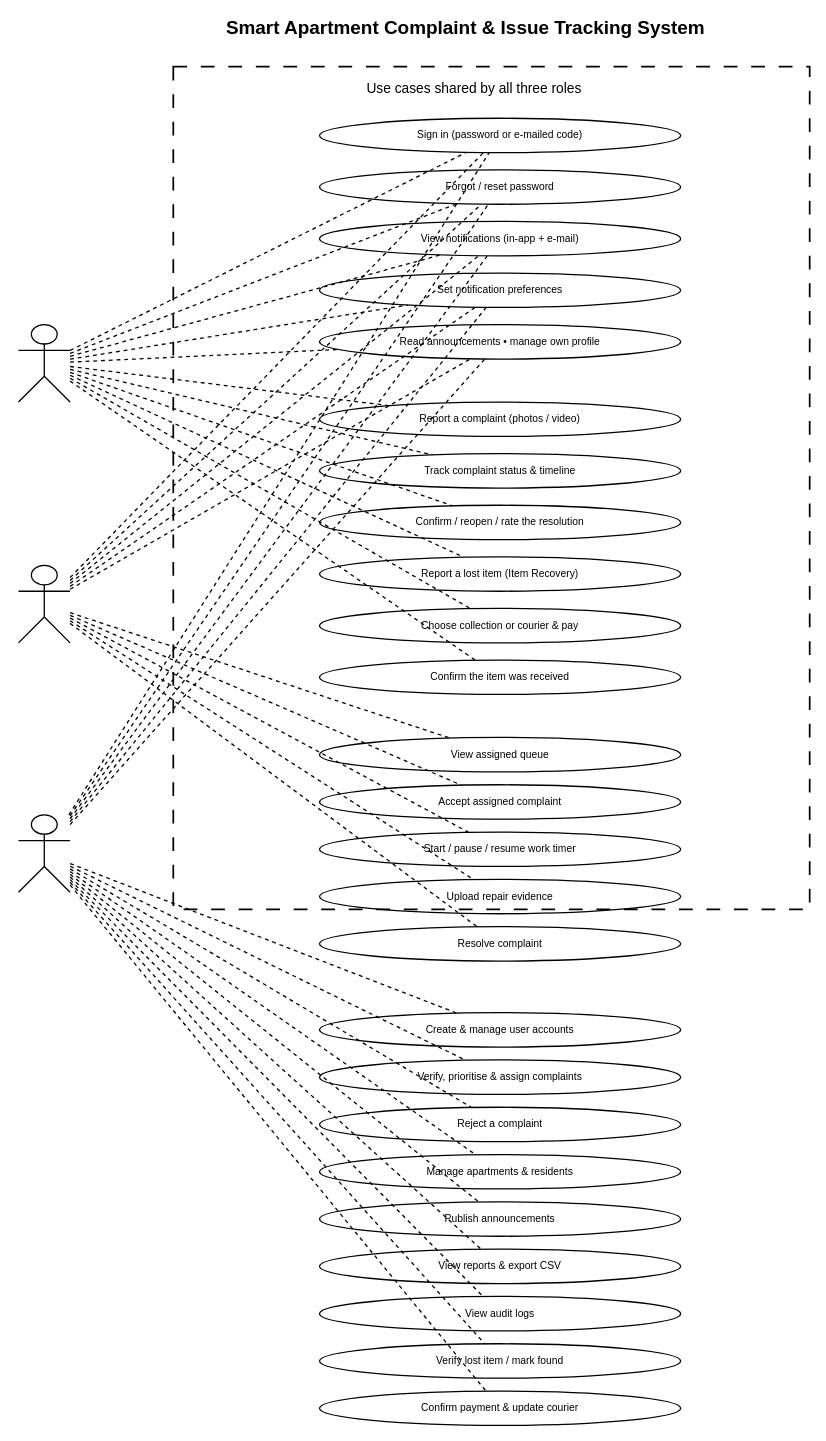
This 826x1441 diagram has some shape labels left out. Here are the shapes that lost their labels. From the top down, the centre of each, then its label:
At point (43, 363): "Resident".
At point (43, 603): "Maintenance Staff".
At point (43, 853): "Admin".
